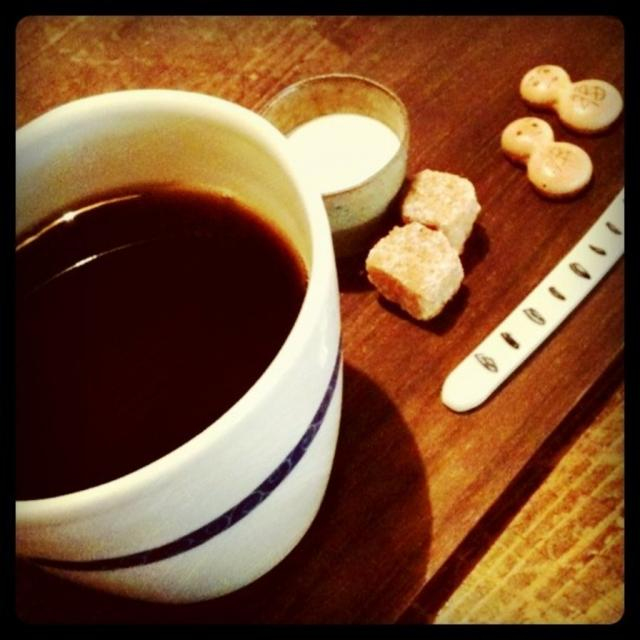Coffee: (0, 188, 306, 503)
Tea: (9, 189, 309, 502)
